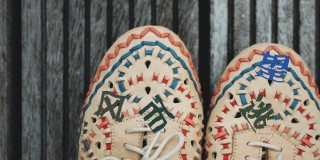望: (256, 51, 289, 83)
而: (139, 95, 175, 133)
逃: (237, 93, 279, 128)
风: (96, 90, 125, 123)
